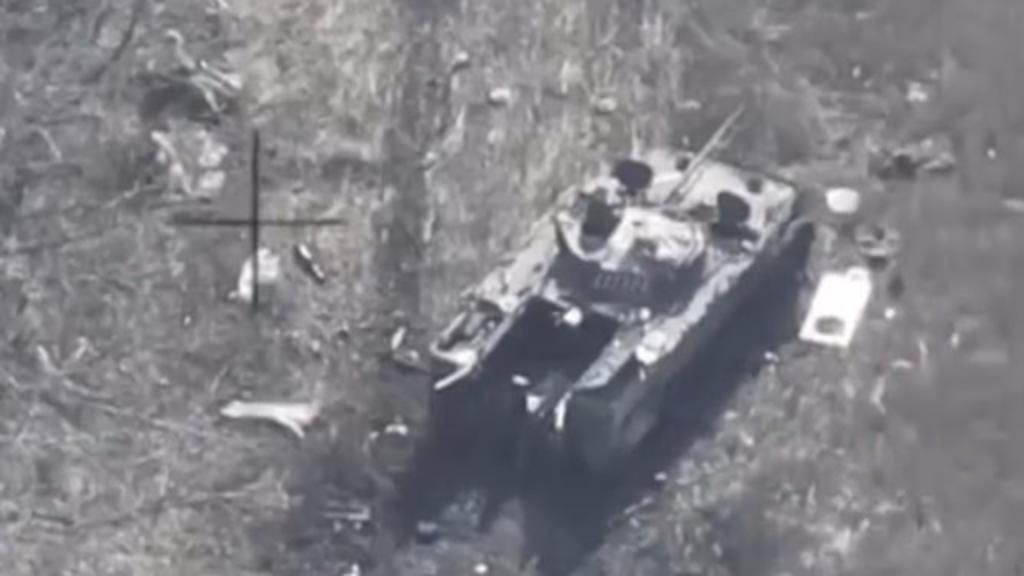APC-IFV: (408, 82, 820, 462)
